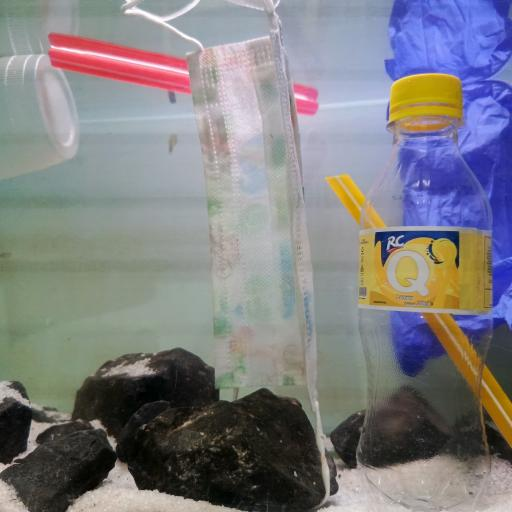bottle_cap: (388, 73, 464, 111)
glove: (383, 0, 512, 379)
mask: (124, 0, 326, 439)
plastic_bottle: (353, 73, 495, 512)
plastic_cup: (1, 51, 81, 181)
plastic_straw: (327, 172, 512, 449), (48, 43, 319, 119)
